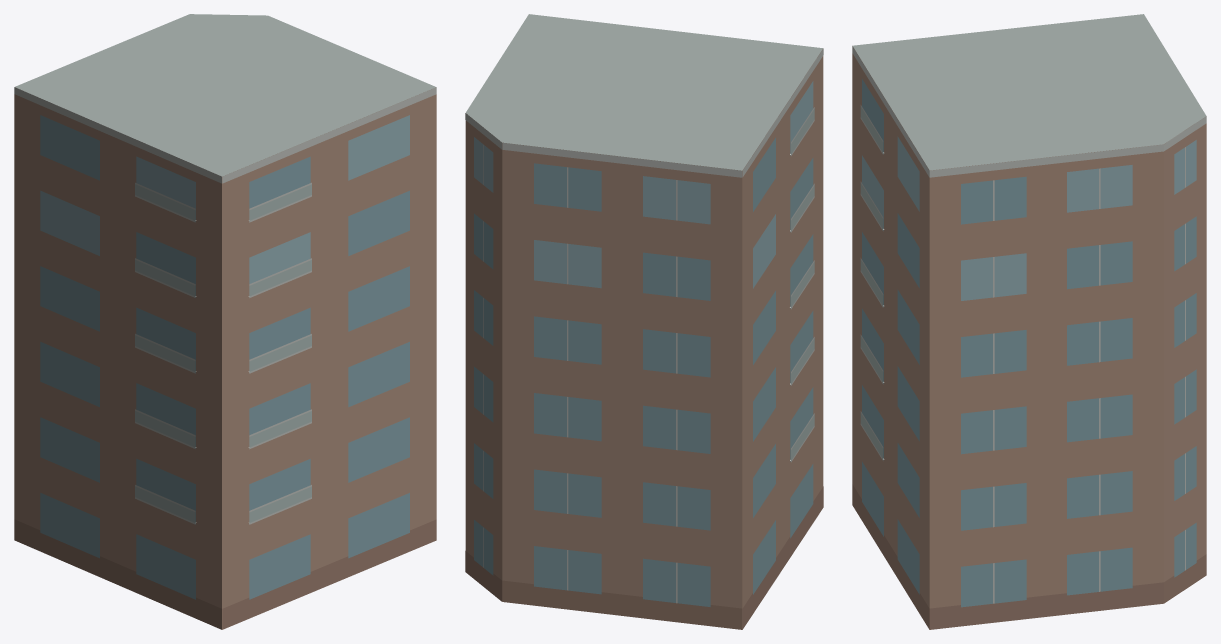
File: survey-upis-32711248.glb
The picture shows the model from 3 angles, left to right: view 1: azimuth 30°, elevation 25°; view 2: azimuth 150°, elevation 25°; view 3: azimuth 270°, elevation 25°; orthographic projection.
Parts seen in each view (by area): view 1: survey-upis-32711248.tmp; view 2: survey-upis-32711248.tmp; view 3: survey-upis-32711248.tmp.
Boxes of the visible parts, box(x1,y1,x2,y2) form: survey-upis-32711248.tmp: box(14, 14, 436, 629); survey-upis-32711248.tmp: box(465, 14, 823, 629); survey-upis-32711248.tmp: box(852, 14, 1206, 629).
Bounding box in the file's own units: 11.41 × 15.6 × 10.91.
